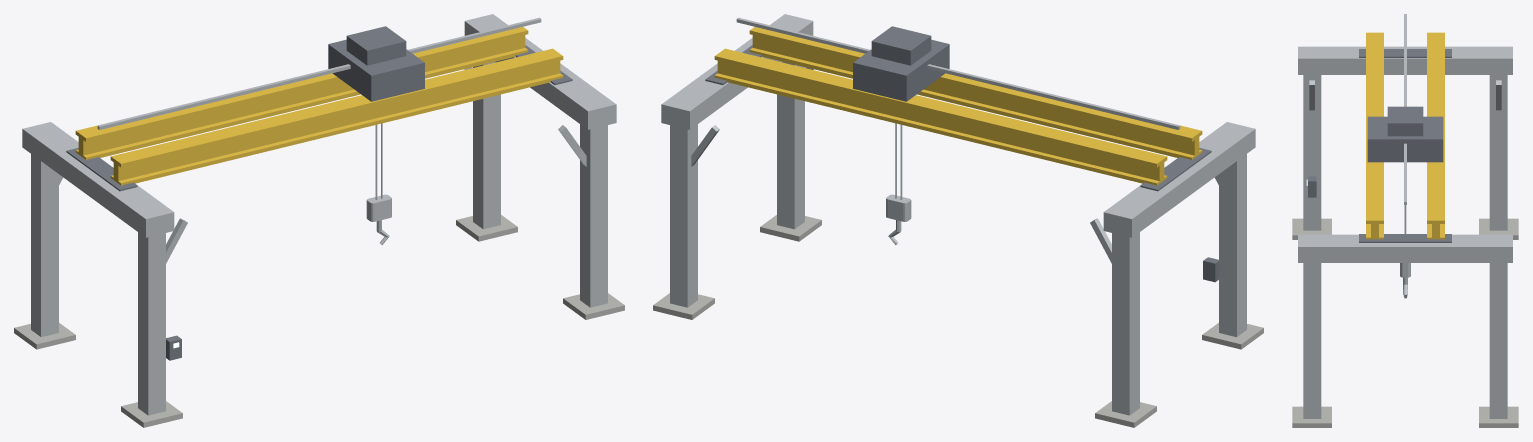
Rendered from ufo-crash-site-and-recovery-facility-overhead-crane-ra-6ee2ed23__17368.glb.
The picture shows the model from 3 angles, left to right: view 1: azimuth 30°, elevation 25°; view 2: azimuth 150°, elevation 25°; view 3: azimuth 270°, elevation 25°; orthographic projection. The views are drawn at different scales.
Parts seen in each view (by area): view 1: overhead-crane-rail, trolley, hook; view 2: overhead-crane-rail, trolley, hook; view 3: overhead-crane-rail, trolley, hook.
Part boxes in pixels (left/top/right/bottom): overhead-crane-rail: left=14, top=14, right=624, bottom=427; trolley: left=328, top=26, right=424, bottom=101; hook: left=366, top=123, right=391, bottom=244; overhead-crane-rail: left=653, top=14, right=1263, bottom=427; trolley: left=853, top=26, right=949, bottom=101; hook: left=886, top=123, right=911, bottom=244; overhead-crane-rail: left=1292, top=14, right=1518, bottom=427; trolley: left=1367, top=106, right=1443, bottom=162; hook: left=1400, top=205, right=1410, bottom=298.
Size of the model in its own units: 13.5 by 7.22 by 6.3.
